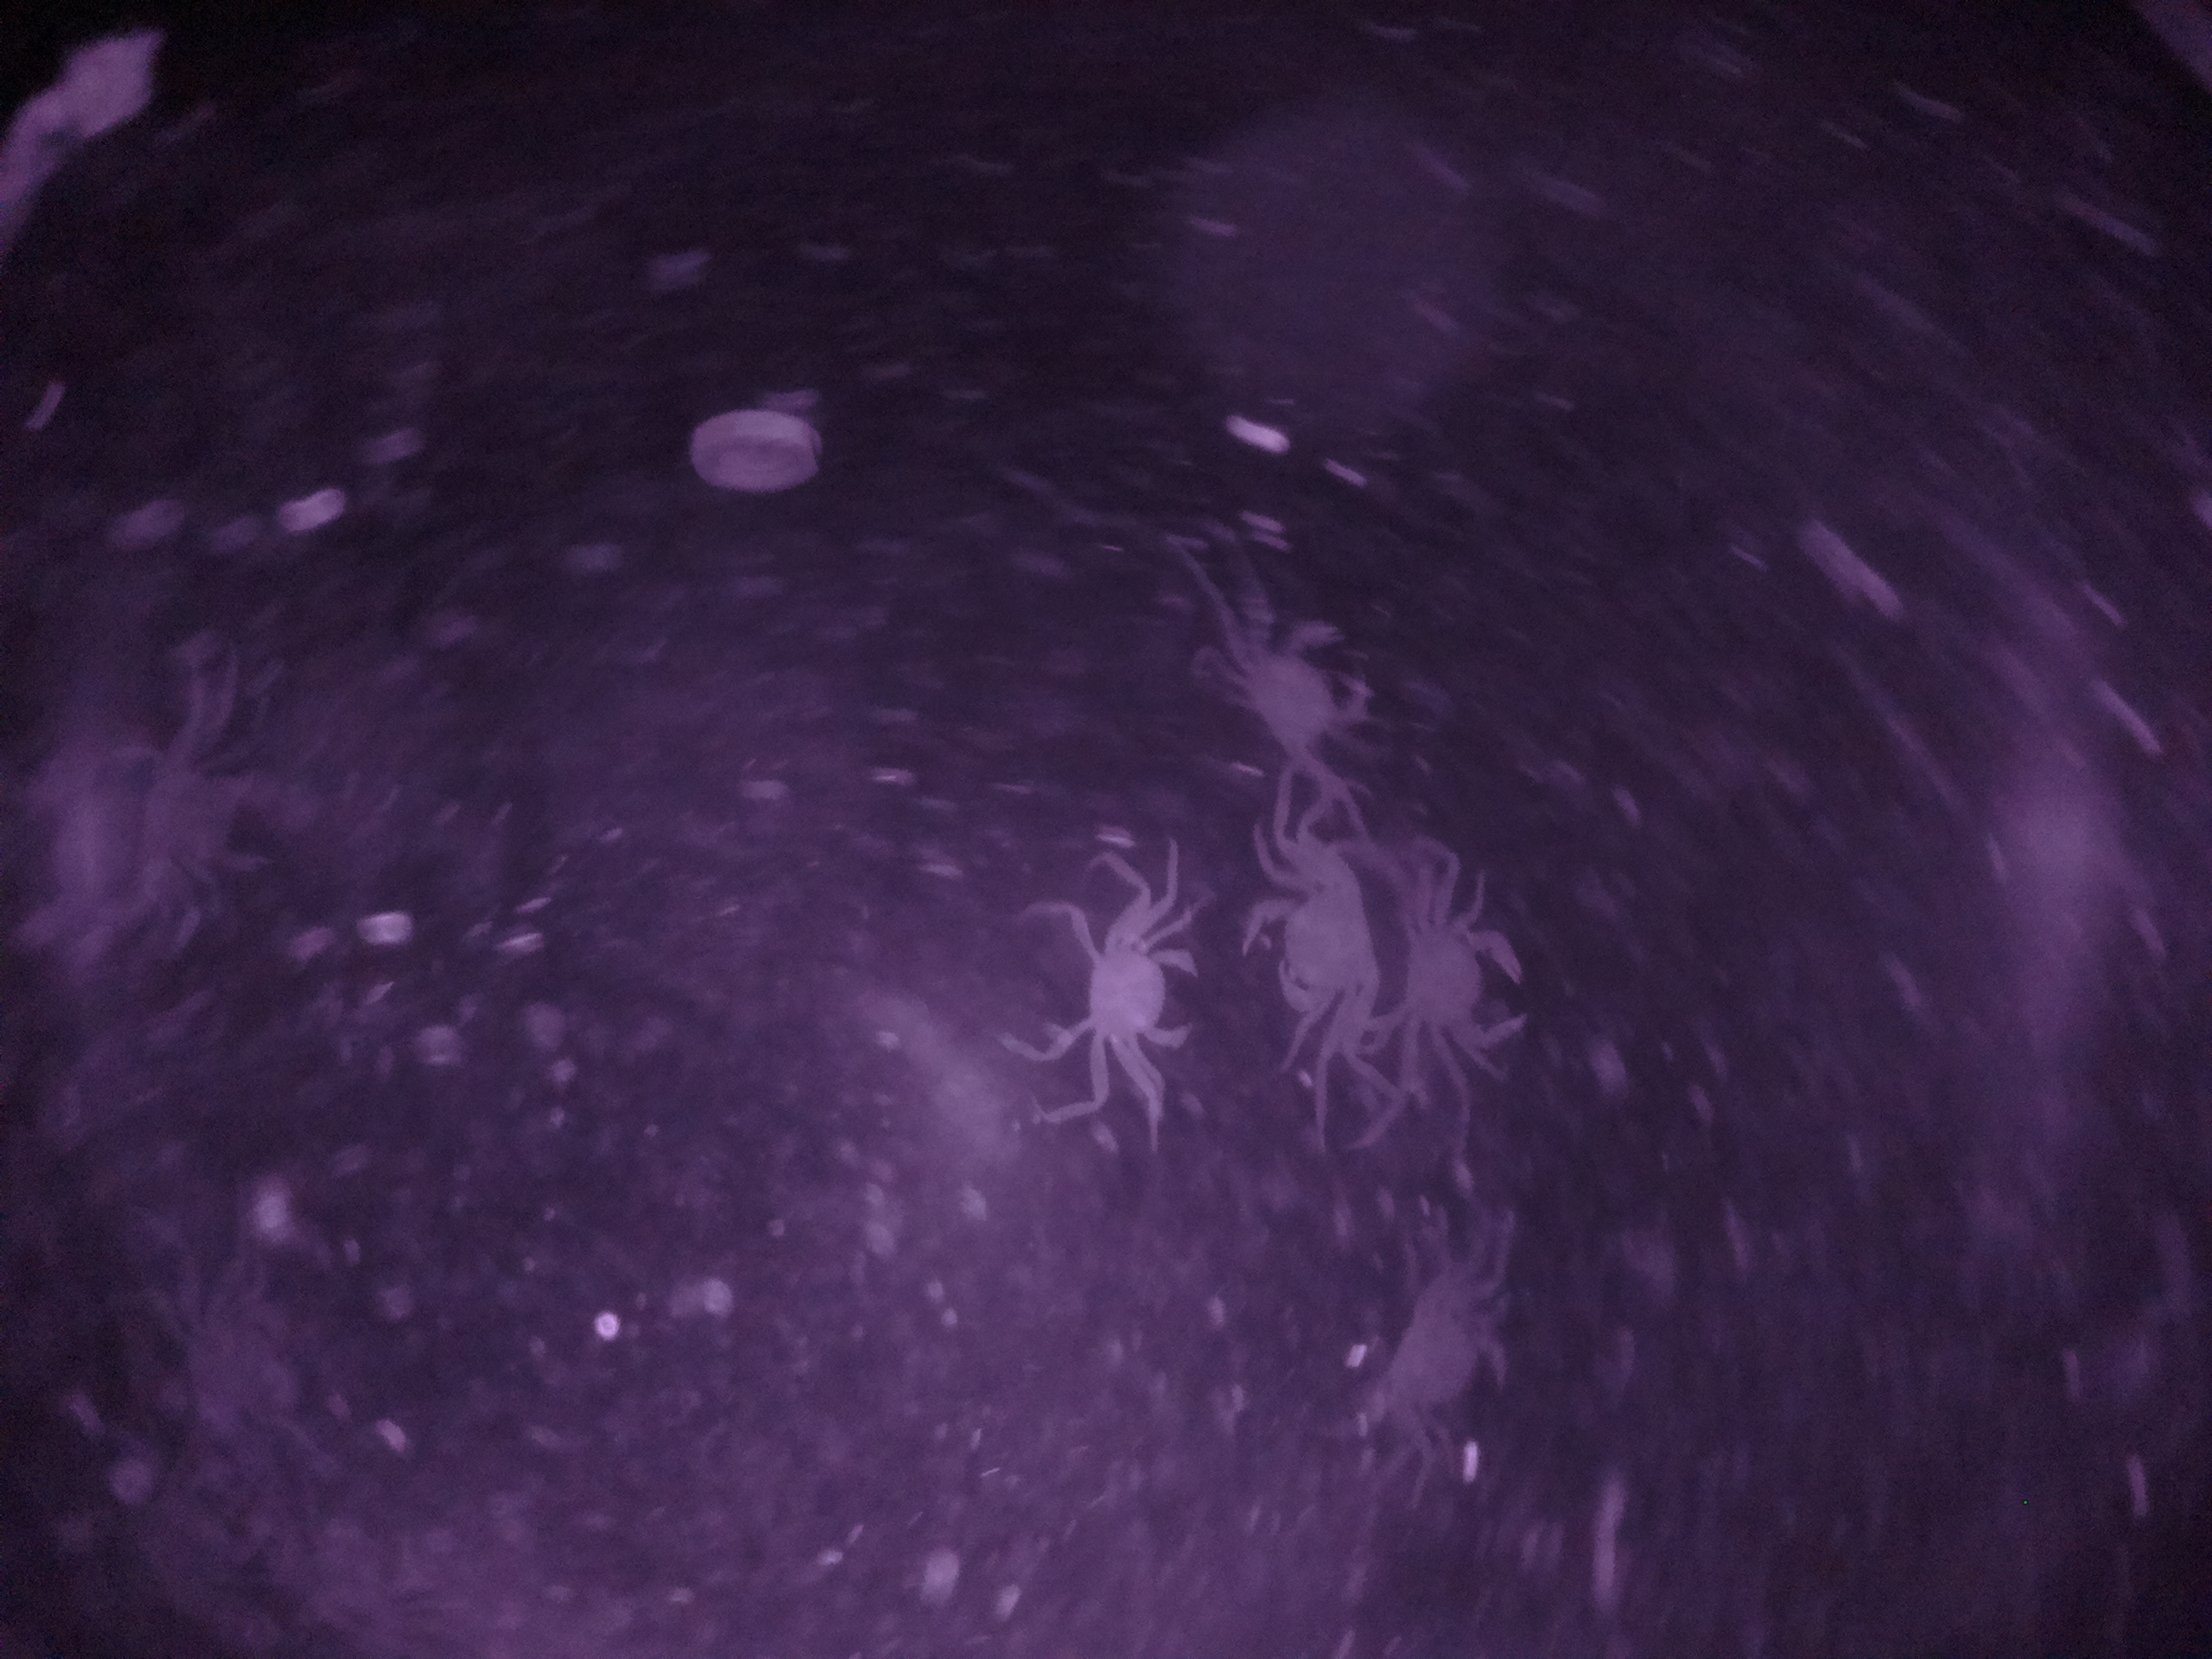Crab: (1393, 877, 1566, 1073), (1045, 889, 1205, 1093), (1258, 856, 1381, 1044)
